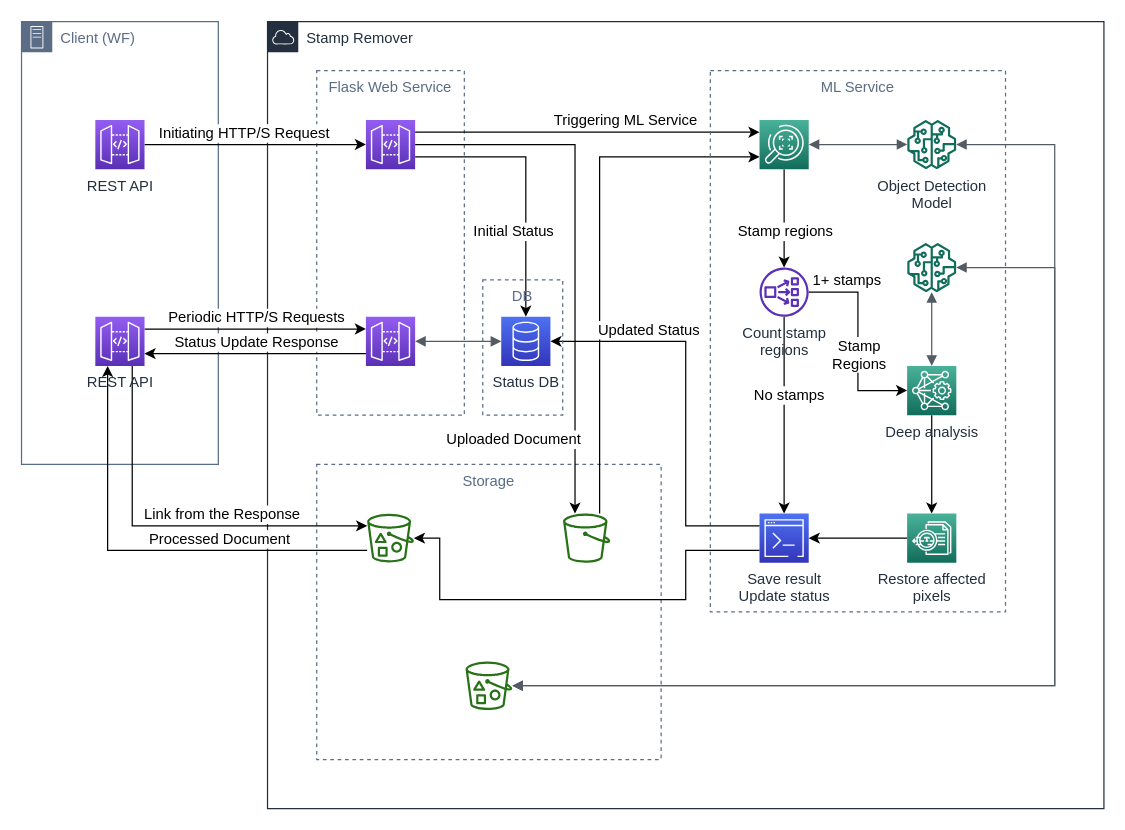
The diagram is 1125 pixels wide and 830 high, and some of its shapes have lost their labels. Here are the shapes that lost their labels. From the top down, the centre of each, then its label:
At (390,144): "Initiation REST API".
At (783,144): "Stamp Detection".
At (931,267): "Model".
At (390,340): "Status check REST API".
At (390,537): "Result".
At (586,537): "Original Documents".
At (488,685): "Training/Test data".
